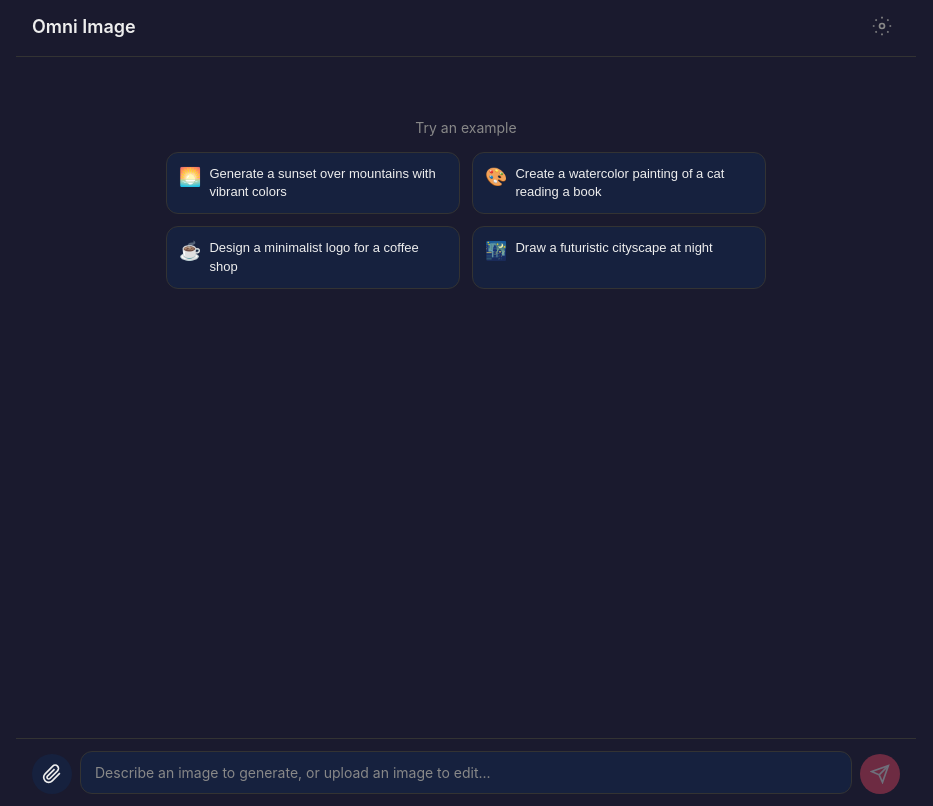
Test: +page.svelte › shows error banner when error is present
The width and height of the screenshot is (933, 806).
In the text box with placeholder "Describe an image to generate, or upload an image to edit...": (466, 772) [80, 751, 852, 794], type "Test prompt"
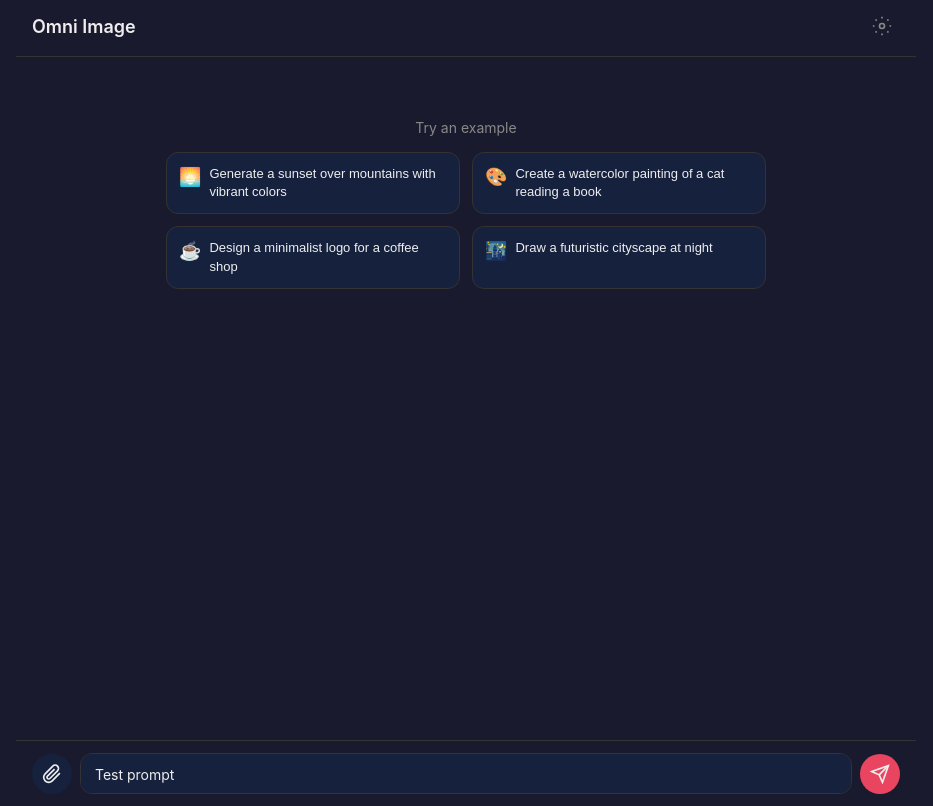
Click the button named "Send message": (880, 774) [860, 754, 900, 794]
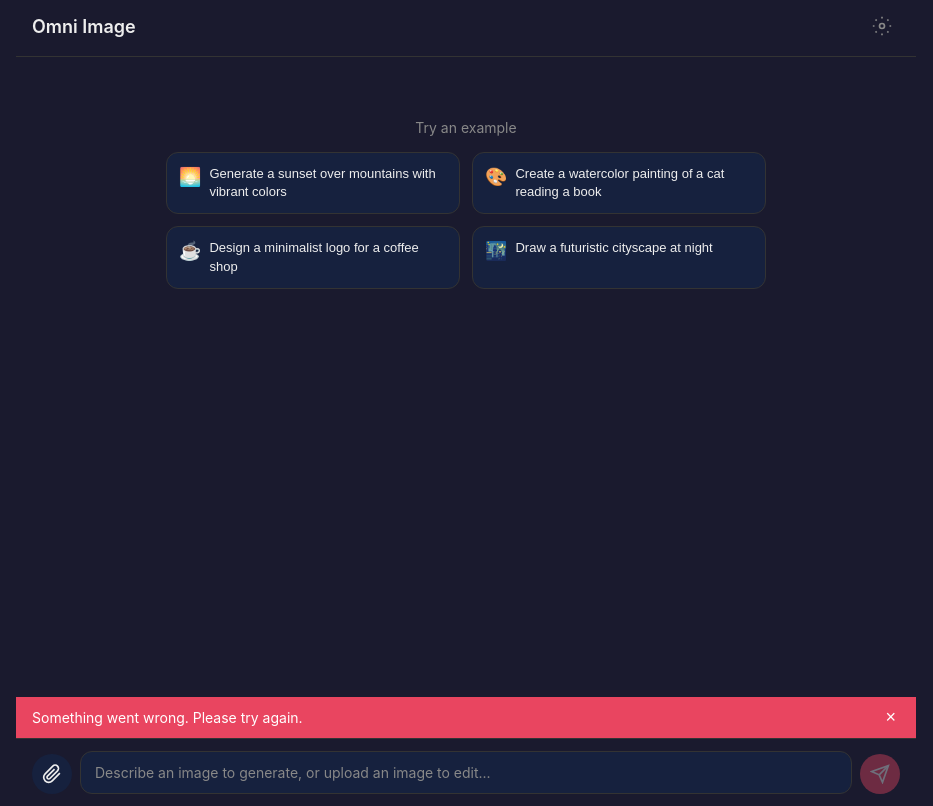
Expected: the text "Something went wrong. Please try again." is shown, [32, 709, 303, 726]
